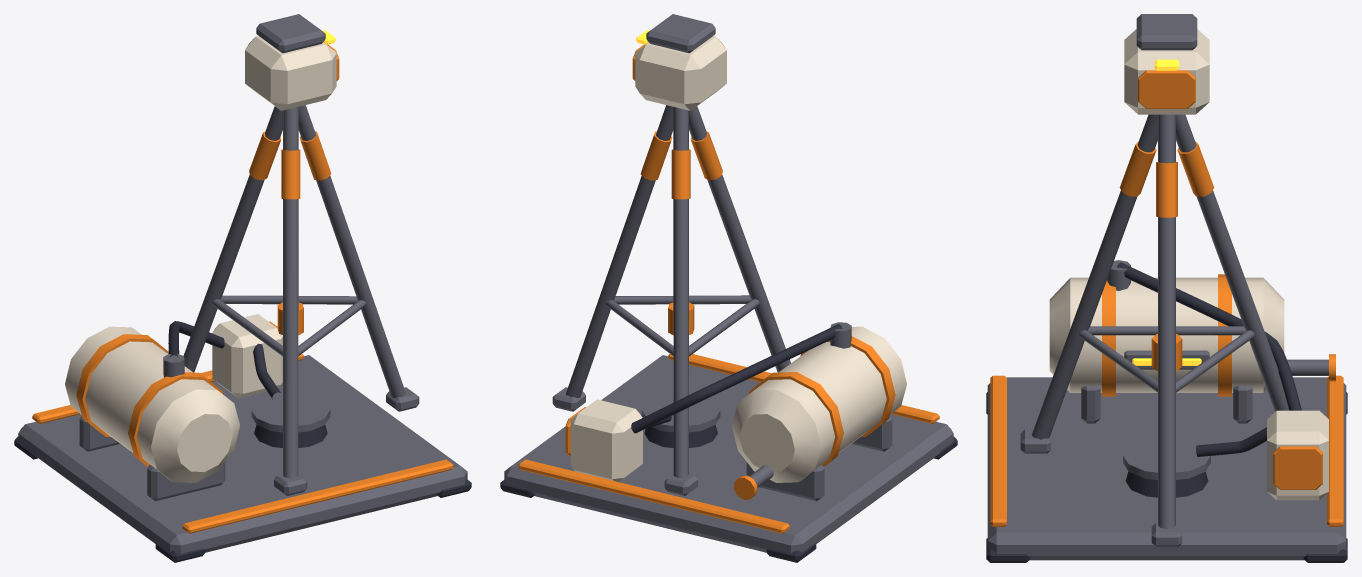
Rendered from asset.glb.
3 renders of one model, left to right at view 1: azimuth 30°, elevation 25°; view 2: azimuth 150°, elevation 25°; view 3: azimuth 270°, elevation 25°, orthographic. The views are drawn at different scales.
Parts seen in each view (by area): view 1: ice-drill_smooth-structure_structure-gray, ice-drill_smooth-structure, derrick_smooth-structure_structure-gray, ice-drill_accent-paint, ice-drill_dark-trim, derrick_accent-paint; view 2: ice-drill_smooth-structure_structure-gray, ice-drill_smooth-structure, derrick_smooth-structure_structure-gray, ice-drill_accent-paint, ice-drill_dark-trim, derrick_accent-paint; view 3: ice-drill_smooth-structure_structure-gray, derrick_smooth-structure_structure-gray, ice-drill_smooth-structure, ice-drill_accent-paint, ice-drill_dark-trim, derrick_accent-paint, Water outlet pipe, ice-drill_emissive-warm.
Part boxes in pixels (x1,y1,x2,y2): ice-drill_smooth-structure_structure-gray: [18, 14, 467, 553]; ice-drill_smooth-structure: [65, 35, 336, 482]; derrick_smooth-structure_structure-gray: [183, 105, 419, 495]; ice-drill_accent-paint: [32, 43, 453, 533]; ice-drill_dark-trim: [14, 321, 471, 562]; derrick_accent-paint: [249, 131, 331, 199]; ice-drill_smooth-structure_structure-gray: [504, 14, 953, 553]; ice-drill_smooth-structure: [570, 35, 906, 482]; derrick_smooth-structure_structure-gray: [552, 105, 790, 495]; ice-drill_accent-paint: [518, 43, 939, 533]; ice-drill_dark-trim: [500, 324, 957, 562]; derrick_accent-paint: [640, 131, 722, 199]; ice-drill_smooth-structure_structure-gray: [987, 14, 1346, 560]; derrick_smooth-structure_structure-gray: [1020, 114, 1288, 546]; ice-drill_smooth-structure: [1049, 29, 1328, 500]; ice-drill_accent-paint: [990, 70, 1343, 526]; ice-drill_dark-trim: [986, 262, 1347, 562]; derrick_accent-paint: [1119, 141, 1214, 217]; Water outlet pipe: [1287, 359, 1328, 375]; ice-drill_emissive-warm: [1132, 59, 1201, 365].
Size of the model in its own units: 3.02 by 3.87 by 2.62.
